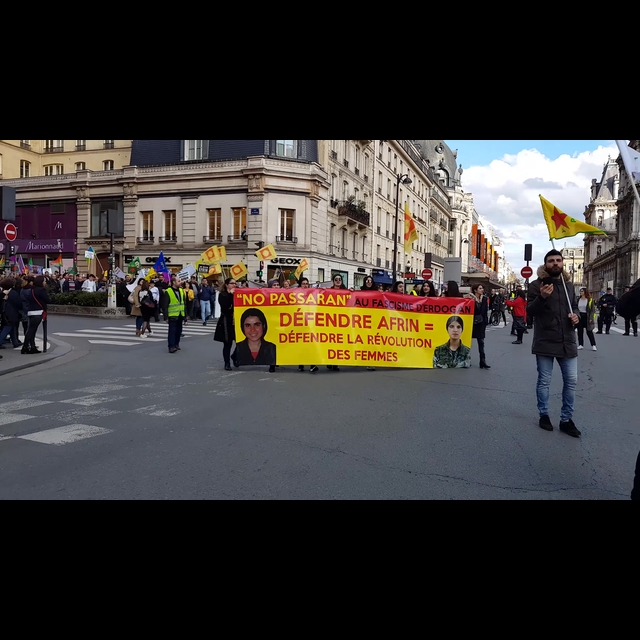YPG: (538, 193, 609, 241)
